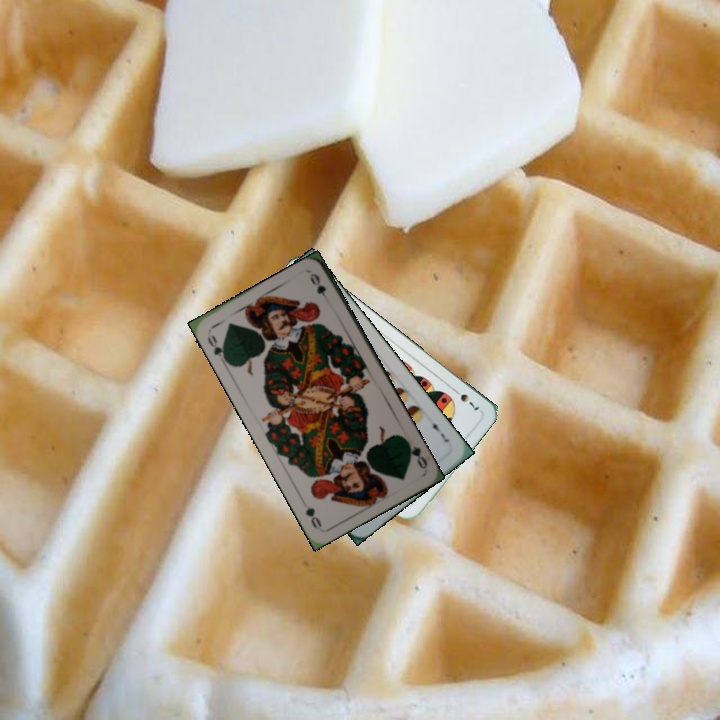E7: (426, 414, 452, 445)
GO: (401, 435, 430, 471), (203, 331, 230, 365)
S7: (448, 384, 483, 414)
